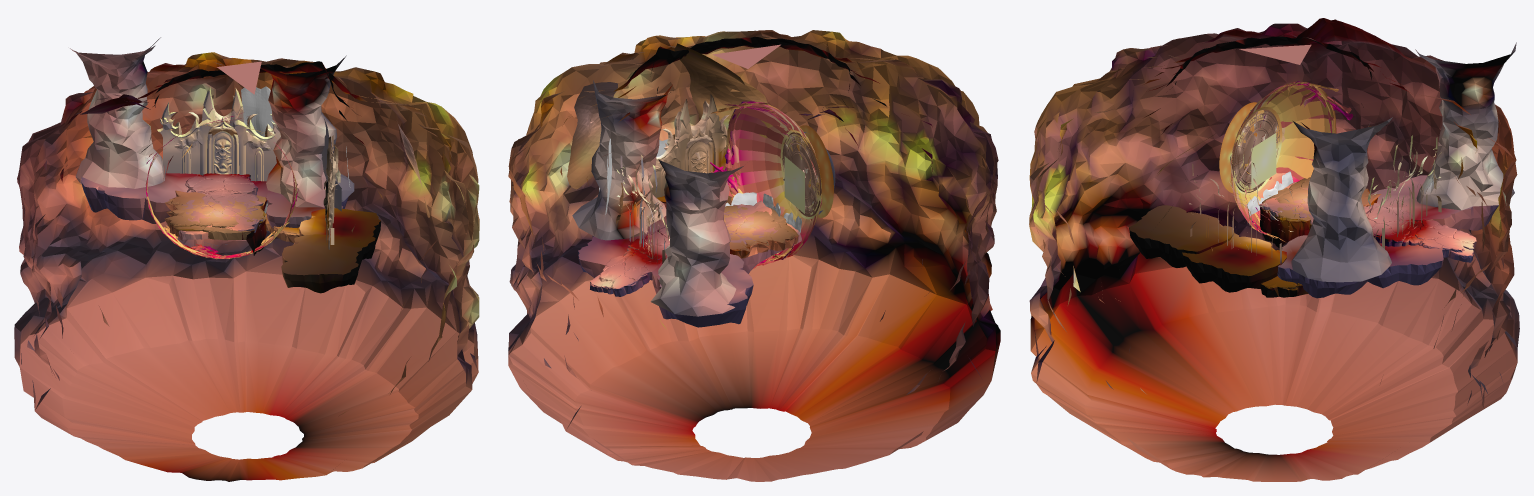
File: roadEnd.glb
3 views of the same model, side by side, from view 1: azimuth 30°, elevation 25°; view 2: azimuth 150°, elevation 25°; view 3: azimuth 270°, elevation 25° (orthographic). The views are drawn at different scales.
Parts seen in each view (by area): view 1: hellgate_wall_cylinder8opt_geo, hellgate_pillar4_geo (×2), hellgate_building3D_1_geo (×2), hellgate_platformRend2_geo (×2), hellgate_platform_lo2_geo (4), hellgate_platform_lo2_geo (8), hellgate_platform_lo2_geo (3), hellgate_frame_rEnd4_geo (×3), hellgate_platformRend2_taper2geo (1), hellgate_building3D_2_geo (×2), hellgate_platform_lo2_geo (7), NOTB_flamewall9_geo; view 2: hellgate_wall_cylinder8opt_geo, hellgate_pillar4_geo (×2), hellgate_frame_rEnd4_geo (×3), hellgate_building3D_2_geo (×2), hellgate_platformRend2_geo (×2), FX_Smoke_Pillar03_QuarterOpacityX2_geo, FX_Smoke_Pillar03_QuarterOpacityX2_geo (1), hellgate_platform_lo2_geo (8), hellgate_platformRend2_taper1_geo (2), hellgate_building3D_1_geo (×2), Inflames_Clock_geo, hellgate_platform_lo2_geo (6) (+4 smaller); view 3: hellgate_wall_cylinder8opt_geo, hellgate_pillar4_geo (×2), hellgate_frame_rEnd4_geo (×3), hellgate_platform_lo2_geo (4), hellgate_platform_lo2_geo (3), hellgate_platformRend2_geo (×2), hellgate_platform_lo2_geo (8), hellgate_platform_lo2_geo (6), hellgate_platformRend2_taper1_geo (2), Inflames_Clock_geo, hellgate_platform_lo2_geo (7), hellgate_building3D_1_geo (×2) (+5 smaller).
Part boxes in pixels (x1,y1,x2,y2): hellgate_wall_cylinder8opt_geo: [14, 52, 479, 481]; hellgate_pillar4_geo (×2): [70, 37, 354, 207]; hellgate_building3D_1_geo (×2): [157, 87, 280, 181]; hellgate_platformRend2_geo (×2): [164, 190, 266, 255]; hellgate_platform_lo2_geo (4): [281, 234, 363, 293]; hellgate_platform_lo2_geo (8): [81, 173, 197, 223]; hellgate_platform_lo2_geo (3): [299, 208, 380, 259]; hellgate_frame_rEnd4_geo (×3): [145, 113, 298, 259]; hellgate_platformRend2_taper2geo (1): [185, 173, 258, 195]; hellgate_building3D_2_geo (×2): [323, 135, 340, 249]; hellgate_platform_lo2_geo (7): [266, 190, 348, 228]; NOTB_flamewall9_geo: [241, 86, 274, 136]; hellgate_wall_cylinder8opt_geo: [508, 30, 1000, 481]; hellgate_pillar4_geo (×2): [572, 80, 743, 316]; hellgate_frame_rEnd4_geo (×3): [710, 101, 821, 268]; hellgate_building3D_2_geo (×2): [649, 94, 729, 197]; hellgate_platformRend2_geo (×2): [724, 200, 801, 273]; FX_Smoke_Pillar03_QuarterOpacityX2_geo: [674, 43, 767, 130]; FX_Smoke_Pillar03_QuarterOpacityX2_geo (1): [567, 82, 618, 189]; hellgate_platform_lo2_geo (8): [652, 254, 753, 327]; hellgate_platformRend2_taper1_geo (2): [590, 250, 662, 296]; hellgate_building3D_1_geo (×2): [616, 155, 669, 263]; Inflames_Clock_geo: [782, 132, 821, 216]; hellgate_platform_lo2_geo (6): [578, 233, 652, 287]; hellgate_wall_cylinder8opt_geo: [1029, 18, 1519, 481]; hellgate_pillar4_geo (×2): [1291, 42, 1516, 282]; hellgate_frame_rEnd4_geo (×3): [1230, 81, 1352, 241]; hellgate_platform_lo2_geo (4): [1129, 205, 1234, 267]; hellgate_platform_lo2_geo (3): [1182, 233, 1286, 292]; hellgate_platformRend2_geo (×2): [1259, 177, 1381, 247]; hellgate_platform_lo2_geo (8): [1371, 175, 1498, 230]; hellgate_platform_lo2_geo (6): [1366, 243, 1443, 288]; hellgate_platformRend2_taper1_geo (2): [1407, 218, 1476, 262]; Inflames_Clock_geo: [1231, 109, 1279, 192]; hellgate_platform_lo2_geo (7): [1277, 235, 1366, 298]; hellgate_building3D_1_geo (×2): [1367, 135, 1441, 248].
Bounding box in the file's own units: 121 × 103 × 121.
